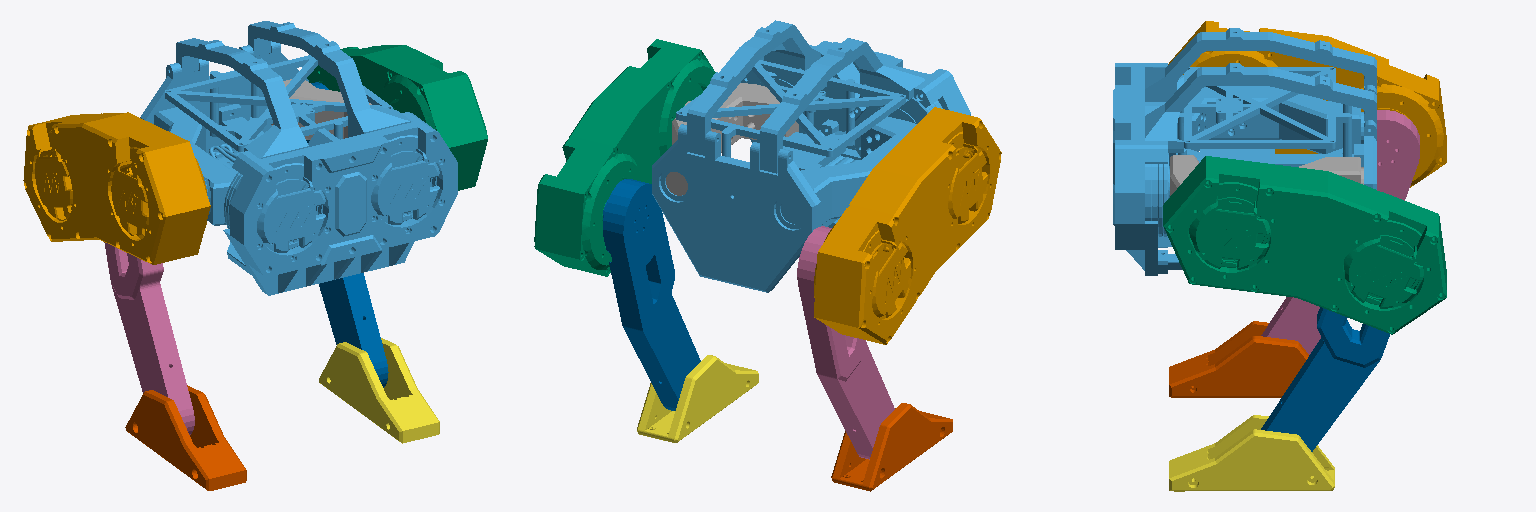
The robot description file, URDF, robot "bipedal":
<?xml version="1.0" encoding="UTF-8"?>
<robot name="bipedal">
  <joint name="joint_bipedal-Imu_Sensor" type="fixed">
    <origin xyz="0.00112 -0.00352 0.0335484" rpy="0. 0. 0."/>
    <parent link="body"/>
    <child link="Imu_Sensor"/>
  </joint>
  <joint name="l_arm_joint" type="revolute">
    <origin xyz="0. 0.052 -0.0466" rpy="-1.5707964 -1.5707964 0. "/>
    <parent link="l_hip"/>
    <child link="l_arm"/>
    <axis xyz="0. 0. 1."/>
    <limit lower="-1.5707963" upper="1.5707963" effort="9.0" velocity="0."/>
  </joint>
  <joint name="l_foot_joint" type="revolute">
    <origin xyz="0.0050727 0.190988 -0.0065 " rpy="3.1415925 0.0 1.6491442"/>
    <parent link="l_forearm"/>
    <child link="l_foot"/>
    <axis xyz="0. 0. 1."/>
    <limit lower="-1.2217305" upper="1.2217305" effort="9.0" velocity="0."/>
  </joint>
  <joint name="l_hip_joint" type="revolute">
    <origin xyz="0.05014 -0.04636 -0.00849" rpy="1.5707964 1.5707964 0. "/>
    <parent link="body"/>
    <child link="l_hip"/>
    <axis xyz="0. 0. 1."/>
    <limit lower="-0.4363323" upper="0.5235988" effort="9.0" velocity="0."/>
  </joint>
  <joint name="l_knee_joint" type="revolute">
    <origin xyz="-0.11573 0.03173 0. " rpy="0.0 0.0 -0.4007102"/>
    <parent link="l_arm"/>
    <child link="l_forearm"/>
    <axis xyz="0. 0. 1."/>
    <limit lower="-0.8726646" upper="1.7453293" effort="9.0" velocity="0."/>
  </joint>
  <joint name="r_arm_joint" type="revolute">
    <origin xyz="0. 0.05201 0.04661" rpy="1.5707964 1.5707964 0. "/>
    <parent link="r_hip"/>
    <child link="r_arm"/>
    <axis xyz="0. 0. 1."/>
    <limit lower="-1.5707963" upper="1.5707963" effort="9.0" velocity="0."/>
  </joint>
  <joint name="r_foot_joint" type="revolute">
    <origin xyz="0.004207 0.1910052 0.0065 " rpy="3.1415927 0. 1.6536472"/>
    <parent link="r_forearm"/>
    <child link="r_foot"/>
    <axis xyz="0. 0. 1."/>
    <limit lower="-1.2217305" upper="1.2217305" effort="9.0" velocity="0."/>
  </joint>
  <joint name="r_hip_joint" type="revolute">
    <origin xyz="-0.04985 -0.04637 -0.00849" rpy="-1.5707964 1.5707964 0. "/>
    <parent link="body"/>
    <child link="r_hip"/>
    <axis xyz="0. 0. 1."/>
    <limit lower="-0.4363323" upper="0.5235988" effort="9.0" velocity="0."/>
  </joint>
  <joint name="r_knee_joint" type="revolute">
    <origin xyz="-0.11566 0.03196 -0. " rpy="0. 0. -0.402665"/>
    <parent link="r_arm"/>
    <child link="r_forearm"/>
    <axis xyz="0. 0. 1."/>
    <limit lower="-0.8726646" upper="1.7453293" effort="9.0" velocity="0."/>
  </joint>
  <link name="Imu_Sensor"/>
  <link name="body">
    <inertial>
      <origin xyz="0.00184695 -0.00867721 -0.01611131" rpy="0. 0. 0."/>
      <mass value="1.94701706"/>
      <inertia ixx="0.00884225" ixy="-0.00009647" ixz="-0.00021269" iyy="-0.00009647" iyz="0.0003109" izz="0.00908713"/>
    </inertial>
    <collision>
      <origin xyz="0.00056 0.0104835 -0.011461 " rpy="0. 0. 0."/>
      <geometry>
        <box size="0.1160978 0.2033129 0.13758 "/>
      </geometry>
    </collision>
    <visual>
      <origin xyz="0.00056 -0.00176 0.00059" rpy="0. 0. 0."/>
      <geometry>
        <mesh filename="meshes/tattu_4500_mah.obj" scale="1. 1. 1."/>
      </geometry>
    </visual>
    <visual>
      <origin xyz="0.00056 -0.00176 0.00959" rpy="0. 0. 0."/>
      <geometry>
        <mesh filename="meshes/nucleo_l476rg.obj" scale="1. 1. 1."/>
      </geometry>
    </visual>
    <visual>
      <origin xyz="0. 0. 0." rpy="0. 0. 0."/>
      <geometry>
        <mesh filename="meshes/kria_kv_260.obj" scale="1. 1. 1."/>
      </geometry>
    </visual>
    <visual>
      <origin xyz="0.0000028 -0.0000024 -0.0000023" rpy="0. 0. 0."/>
      <geometry>
        <mesh filename="meshes/printed_body_parts.obj" scale="1. 1. 1."/>
      </geometry>
    </visual>
    <visual>
      <origin xyz="-0.1056196 -0.0789026 -0.03137 " rpy="0. 0. 0.0022334"/>
      <geometry>
        <mesh filename="meshes/ak60_6.obj" scale="1. 1. 1."/>
      </geometry>
    </visual>
    <visual>
      <origin xyz="-0.00594 -0.07868 -0.03137" rpy="0. 0. 0.0022334"/>
      <geometry>
        <mesh filename="meshes/ak60_6.obj" scale="1. 1. 1."/>
      </geometry>
    </visual>
  </link>
  <link name="l_arm">
    <inertial>
      <origin xyz="0.1187287 0.0582346 -0.0239836" rpy="0. 0. 0."/>
      <mass value="0.8257222"/>
      <inertia ixx="0.0035457" ixy="0.0000002" ixz="-0.0000004" iyy="0.00069" iyz="-0." izz="0.0030306"/>
    </inertial>
    <visual>
      <origin xyz="0.00024 -0.00849 -0.10214" rpy="1.5707964 -1.5707964 0. "/>
      <geometry>
        <mesh filename="meshes/l_arm.obj" scale="1. 1. 1."/>
      </geometry>
    </visual>
    <collision>
      <origin xyz="-0.059147 0.0160712 0.01887 " rpy="1.293073 -1.5707964 0. "/>
      <geometry>
        <box size="0.0455878 0.1951695 0.0797575"/>
      </geometry>
    </collision>
  </link>
  <link name="l_foot">
    <inertial>
      <origin xyz="0. 0. 0." rpy="0. 0. 0."/>
      <mass value="0.04745"/>
      <inertia ixx="0.001" ixy="0." ixz="0." iyy="0.001" iyz="0." izz="0.001"/>
    </inertial>
    <visual>
      <origin xyz="-0.1914131 0.102733 0.09564 " rpy="-2.8192303 1.5707964 0. "/>
      <geometry>
        <mesh filename="meshes/foot.obj" scale="1. 1. 1."/>
      </geometry>
    </visual>
    <collision>
      <origin xyz="0.0277056 0.0127352 0.01143 " rpy="-2.8192303 1.5707964 0. "/>
      <geometry>
        <box size="0.036 0.1227169 0.0099255"/>
      </geometry>
    </collision>
  </link>
  <link name="l_forearm">
    <inertial>
      <origin xyz="0.085199 0.0737789 -0.1413163" rpy="0. 0. 0."/>
      <mass value="0.1135116"/>
      <inertia ixx="0.0006658" ixy="0." ixz="0." iyy="0.0005389" iyz="0." izz="0.0001361"/>
    </inertial>
    <visual>
      <origin xyz="0.1224721 0.0082028 -0.10214 " rpy="1.9715065 -1.5707963 0. "/>
      <geometry>
        <mesh filename="meshes/l_forearm.obj" scale="1. 1. 1."/>
      </geometry>
    </visual>
    <collision>
      <origin xyz="-0.0030734 0.0774761 -0.01793 " rpy="1.5765638 -1.5707963 0. "/>
      <geometry>
        <box size="0.0174227 0.0354954 0.186567 "/>
      </geometry>
    </collision>
  </link>
  <link name="r_foot">
    <inertial>
      <origin xyz="0. 0. 0." rpy="0. 0. 0."/>
      <mass value="0.04745"/>
      <inertia ixx="0.001" ixy="0." ixz="0." iyy="0.001" iyz="0." izz="0.001"/>
    </inertial>
    <visual> 
      <origin xyz="-0.1914131 0.102733 -0.09564" rpy="-2.8217785 1.5707964 0. "/>
      <geometry>
        <mesh filename="meshes/foot.obj" scale="-1. 1. 1."/>
      </geometry>
    </visual>
    <collision>
      <origin xyz="0.0273844 0.0133017 -0.0111505" rpy="-2.8217785 1.5707964 0. "/>
      <geometry>
        <box size="0.036 0.1227169 0.0099255"/>
      </geometry>
    </collision>
  </link>
  <link name="r_forearm">
    <inertial>
      <origin xyz="-0.0849117 0.073974 -0.1416498" rpy="0. 0. 0."/>
      <mass value="0.1135116"/>
      <inertia ixx="0.0006658" ixy="0." ixz="0." iyy="0.0005401" iyz="0." izz="0.0001349"/>
    </inertial>
    <visual>
      <origin xyz="0.1224815 0.0082031 0.10186 " rpy="1.9734613 -1.5707964 0. "/>
      <geometry>
        <mesh filename="meshes/r_forearm.obj" scale="1. 1. 1."/>
      </geometry>
    </visual>
    <collision>
      <origin xyz="-0.0031991 0.0772309 0.01765 " rpy="1.5785186 -1.5707963 0. "/>
      <geometry>
        <box size="0.0174227 0.0354954 0.186567 "/>
      </geometry>
    </collision>
  </link>
  <link name="l_hip">
    <inertial>
      <origin xyz="0.01698 0.06743 0. " rpy="0. 0. 0."/>
      <mass value="0.07053"/>
      <inertia ixx="0.0001481" ixy="0." ixz="0." iyy="0.0000254" iyz="0." izz="0.0001597"/>
    </inertial>
    <visual>
      <origin xyz="0. -0. 0." rpy="-1.5707964 0. 3.1415927"/>
      <geometry>
        <mesh filename="meshes/hip.obj" scale="1. 1. 1."/>
      </geometry>
    </visual>
  </link>
  <link name="r_arm">
    <inertial>
      <origin xyz="-0.1182537 0.0581932 -0.0240374" rpy="0. 0. 0."/>
      <mass value="0.8423222"/>
      <inertia ixx="0.0036149" ixy="0.0000002" ixz="0." iyy="0.0007136" iyz="0." izz="0.003081"/>
    </inertial>
    <visual>
      <origin xyz="0.00024 -0.00849 0.10186" rpy="1.5707964 -1.5707964 0. "/>
      <geometry>
        <mesh filename="meshes/r_arm.obj" scale="1. 1. 1."/>
      </geometry>
    </visual>
    <collision>
      <origin xyz="-0.059147 0.0160712 -0.0191464" rpy="1.293073 -1.5707964 0. "/>
      <geometry>
        <box size="0.0455878 0.1951695 0.0797575"/>
      </geometry>
    </collision>
  </link>
  <link name="r_hip">
    <inertial>
      <origin xyz="-0.01698 0.06743 0.000001" rpy="0. 0. 0."/>
      <mass value="0.07053"/>
      <inertia ixx="0.0001481" ixy="0." ixz="0." iyy="0.0000254" iyz="0." izz="0.0001597"/>
    </inertial>
    <visual>
      <origin xyz="0. 0.00001 0.00001" rpy="1.5707964 0. 0. "/>
      <geometry>
        <mesh filename="meshes/hip.obj" scale="1. 1. 1."/>
      </geometry>
    </visual>
  </link>
</robot>

--- What the picture shows (computed from the rendered views, not written in the file) ---
3 views of the same robot in one strip: view 1: azimuth 30°, elevation 25°; view 2: azimuth 150°, elevation 25°; view 3: azimuth 270°, elevation 25° (orthographic).
Robot: bipedal — 10 links, 9 joints (8 revolute, 1 fixed); root link body; default pose: every joint at zero.
Links seen in each view (by area): view 1: body, r_arm, l_arm, r_forearm, r_foot, l_foot, l_forearm, r_hip, l_hip; view 2: body, r_arm, l_arm, l_forearm, r_forearm, r_foot, l_foot, r_hip, l_hip; view 3: l_arm, body, l_foot, l_forearm, r_arm, r_foot, r_forearm, r_hip, l_hip.
Link boxes in pixels (bbox=[...]): body: bbox=[140, 21, 457, 295]; r_arm: bbox=[23, 112, 210, 264]; l_arm: bbox=[307, 45, 487, 190]; r_forearm: bbox=[104, 242, 194, 434]; r_foot: bbox=[125, 385, 246, 490]; l_foot: bbox=[319, 338, 439, 443]; l_forearm: bbox=[306, 82, 388, 387]; r_hip: bbox=[154, 107, 237, 225]; l_hip: bbox=[271, 79, 371, 139]; body: bbox=[652, 20, 970, 292]; r_arm: bbox=[814, 107, 1001, 344]; l_arm: bbox=[534, 39, 715, 276]; l_forearm: bbox=[603, 179, 700, 410]; r_forearm: bbox=[797, 226, 894, 459]; r_foot: bbox=[831, 403, 952, 491]; l_foot: bbox=[637, 355, 758, 442]; r_hip: bbox=[781, 116, 916, 224]; l_hip: bbox=[666, 83, 798, 195]; l_arm: bbox=[1163, 156, 1446, 334]; body: bbox=[1113, 28, 1376, 275]; l_foot: bbox=[1169, 415, 1334, 491]; l_forearm: bbox=[1261, 307, 1389, 451]; r_arm: bbox=[1168, 21, 1446, 187]; r_foot: bbox=[1169, 321, 1308, 397]; r_forearm: bbox=[1261, 110, 1419, 354]; r_hip: bbox=[1177, 86, 1363, 153]; l_hip: bbox=[1170, 155, 1363, 195].
Size in the robot's own frame: 0.2865 by 0.2535 by 0.3223 metres.
Meshes: 11 distinct files referenced, 12 mesh visuals loaded (9 OBJ); not drawn: 2 (reference not matched to a file when rendering).
